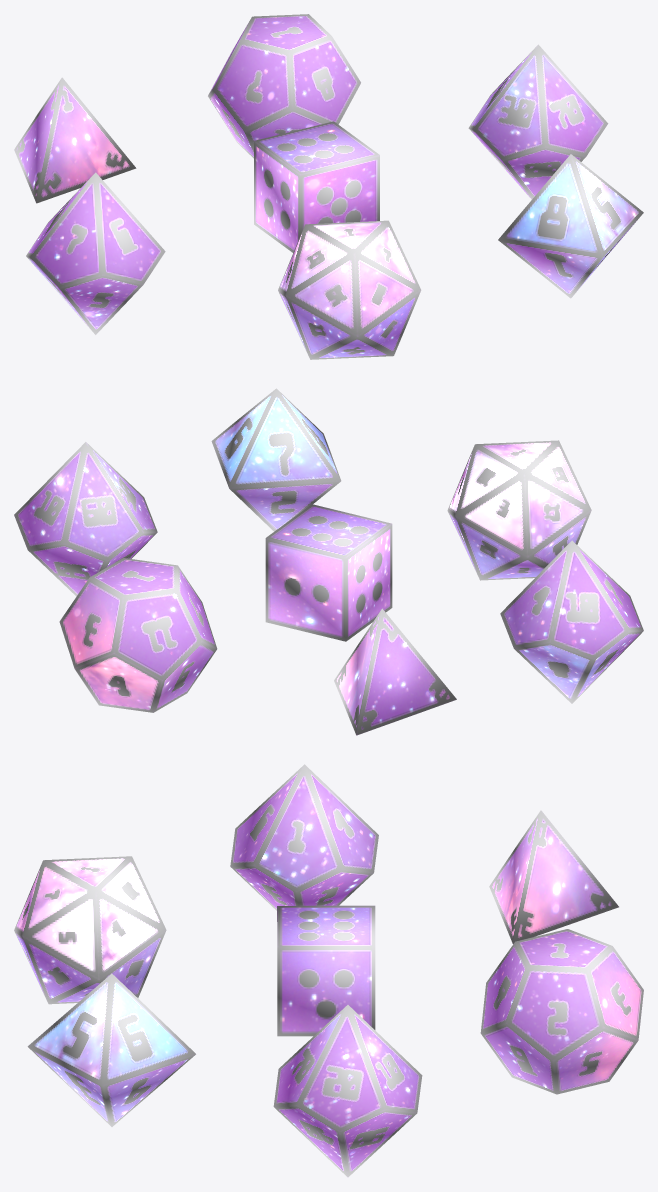
Rendered from SpaceDice.gltf.
3 renders of one model, top to bottom at view 1: azimuth 30°, elevation 25°; view 2: azimuth 150°, elevation 25°; view 3: azimuth 270°, elevation 25°, orthographic. The views are drawn at different scales.
Visible parts, largest first — view 1: LowPoly; view 2: LowPoly; view 3: LowPoly.
Boxes of the visible parts, x1,y1,x2,y2 form: LowPoly: [14, 14, 643, 359]; LowPoly: [14, 388, 643, 735]; LowPoly: [14, 764, 643, 1177].
Bounding box in the file's own units: 8.47 × 2.25 × 7.41.
Materials: 1 (1 with a texture image).
